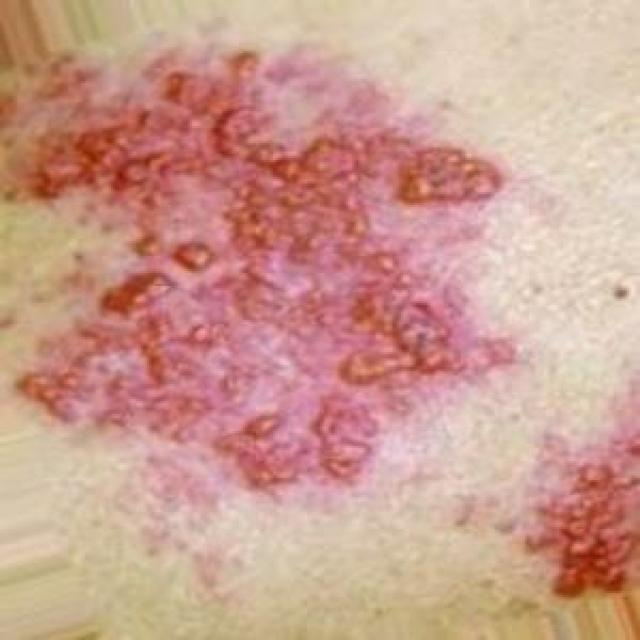Shingles: (8, 52, 510, 492), (529, 433, 640, 597)
